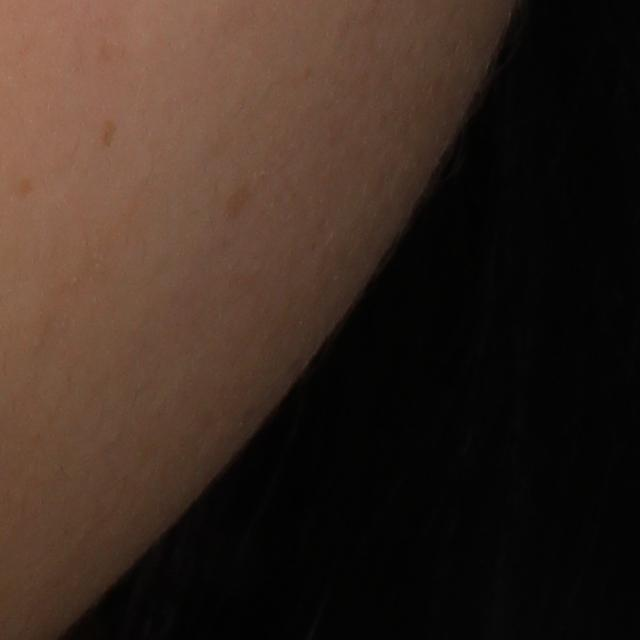melasma: (220, 175, 252, 225), (97, 119, 116, 149)
